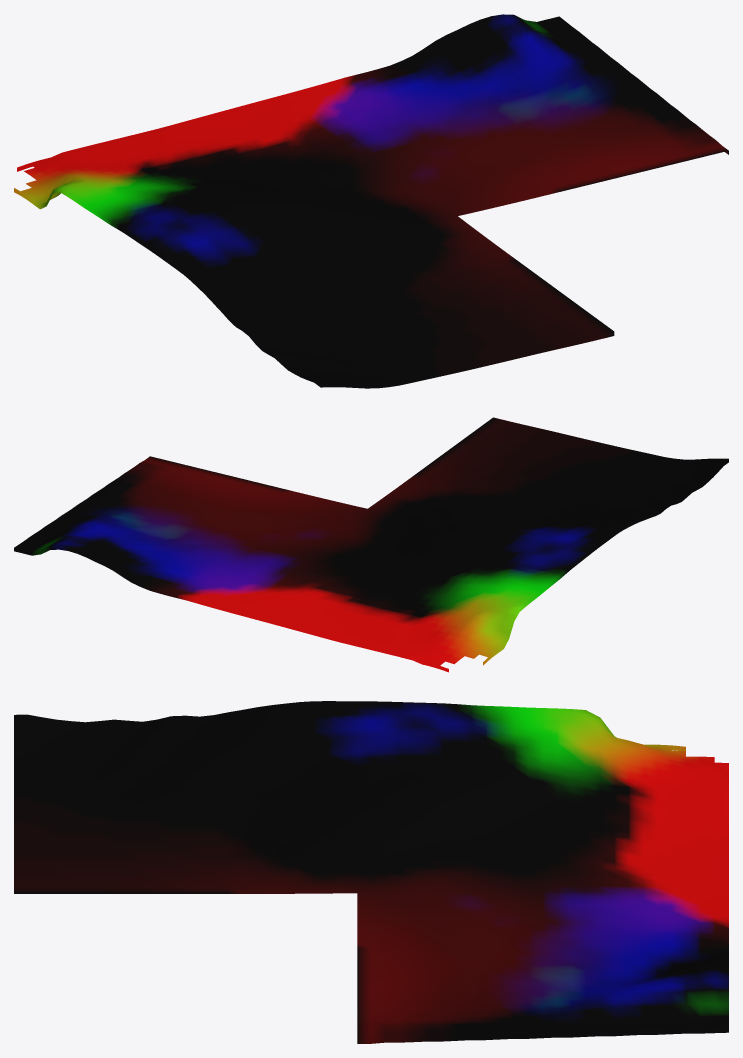
File: coast_10_10.glb
3 views of the same model, one above another, from view 1: azimuth 30°, elevation 25°; view 2: azimuth 150°, elevation 25°; view 3: azimuth 270°, elevation 25° (orthographic). The views are drawn at different scales.
Parts seen in each view (by area): view 1: terrain; view 2: terrain; view 3: terrain.
Part boxes in pixels (<box>): terrain: <box>14,14,728,388</box>; terrain: <box>14,417,728,672</box>; terrain: <box>14,701,728,1043</box>.
Bounding box in the file's own units: 200 × 15.75 × 200.
